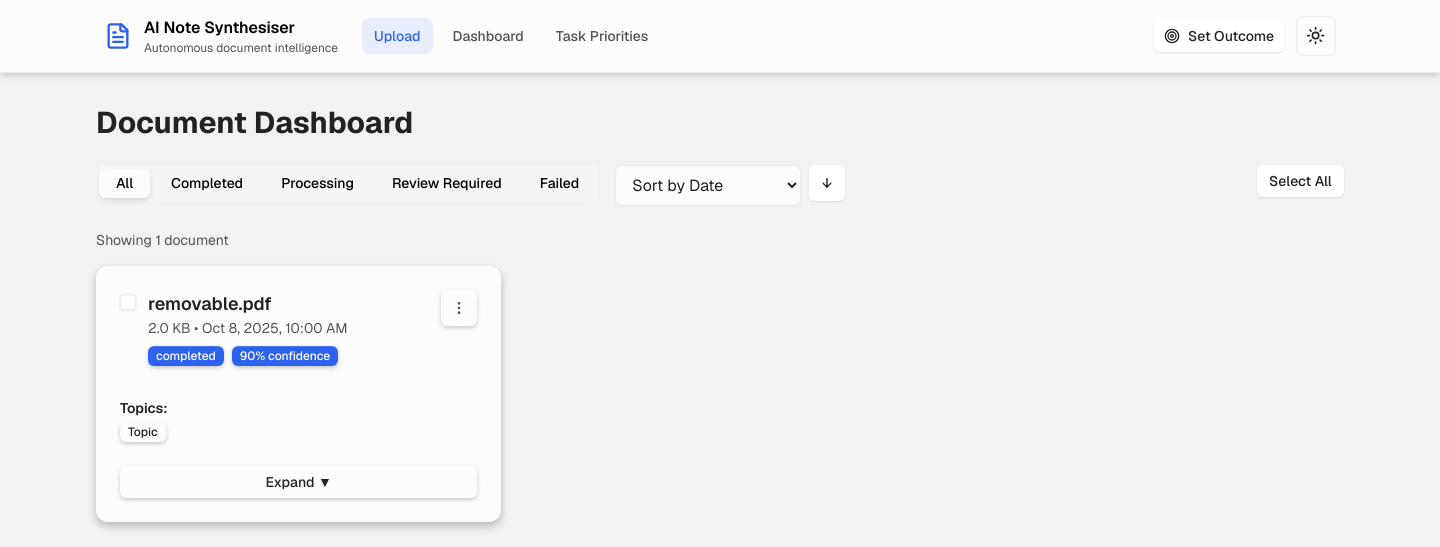
Test: Dashboard Page › should delete a document from the dashboard
Check: the text "removable.pdf" is shown, box [148,292,272,315]
Click the button named "Actions for removable.pdf" at (459, 308), box [441,290,477,326]
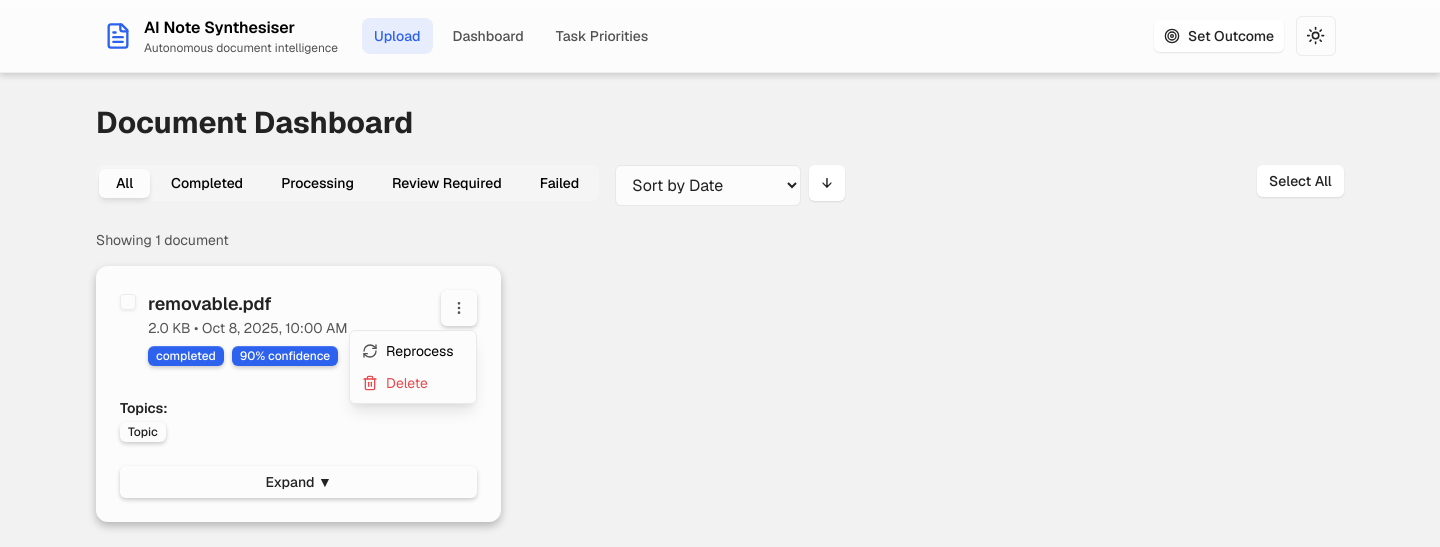
// Click the actual delete option from the dropdown menu
Click the menu item "Delete" at (395, 383), box [362,374,428,392]
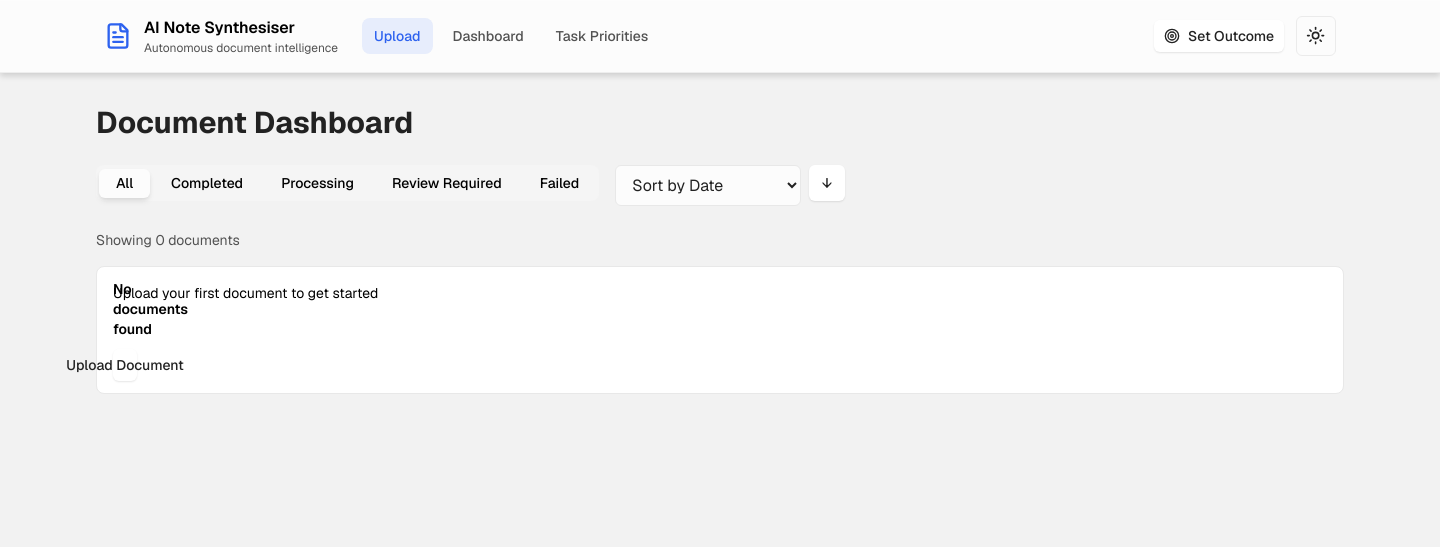
Check: the text "removable.pdf" is gone
